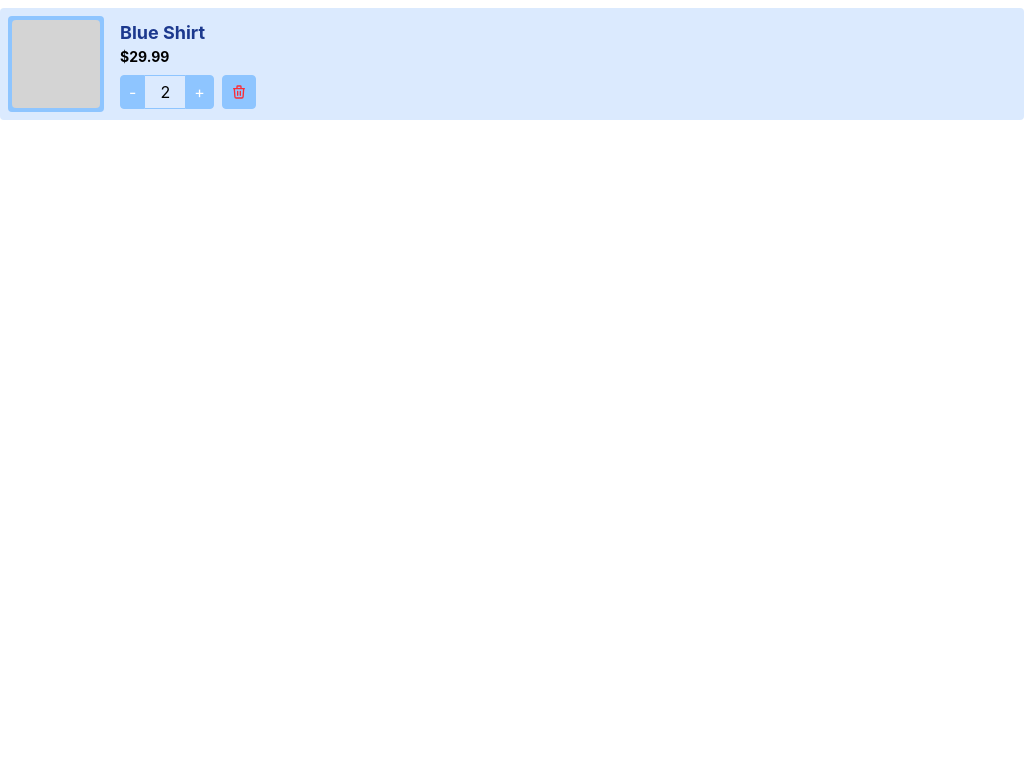
Test: CartRemove confirmation modal › shows the modal when the trash icon button is clicked
What coordinates should you click on to do the following:
click the button named "Remove from cart"
I would click on:
 (239, 92)
Its box is [222,75,256,109].
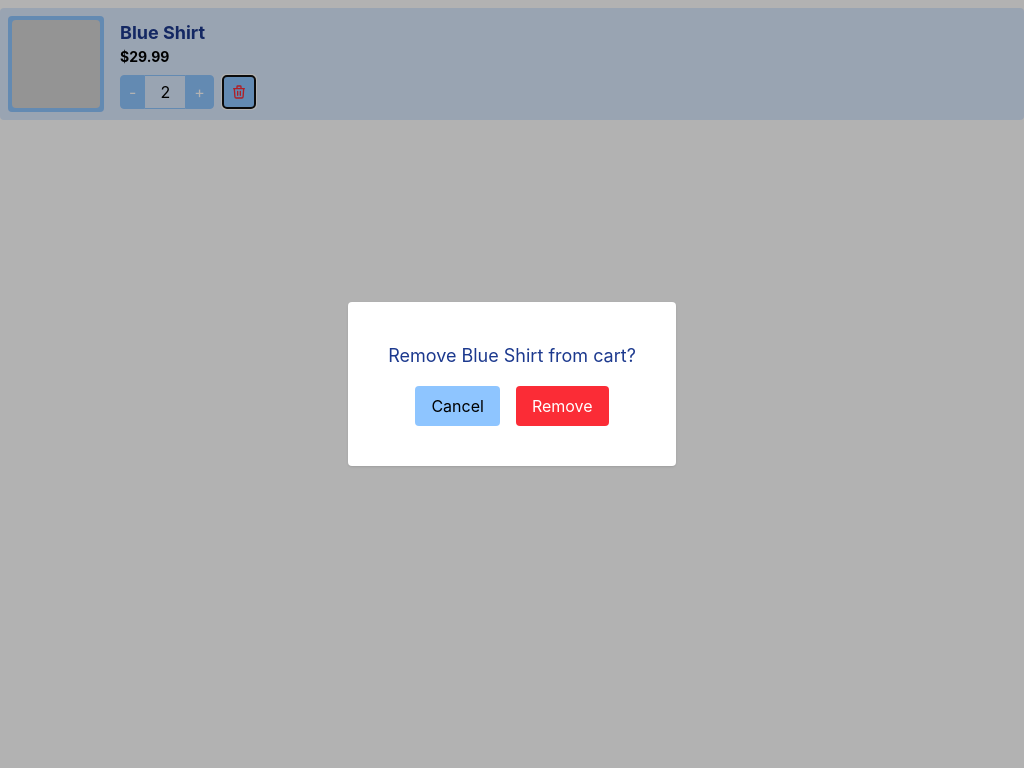
Check: the text "Remove Blue Shirt from cart?" is shown, box [388,342,636,370]
